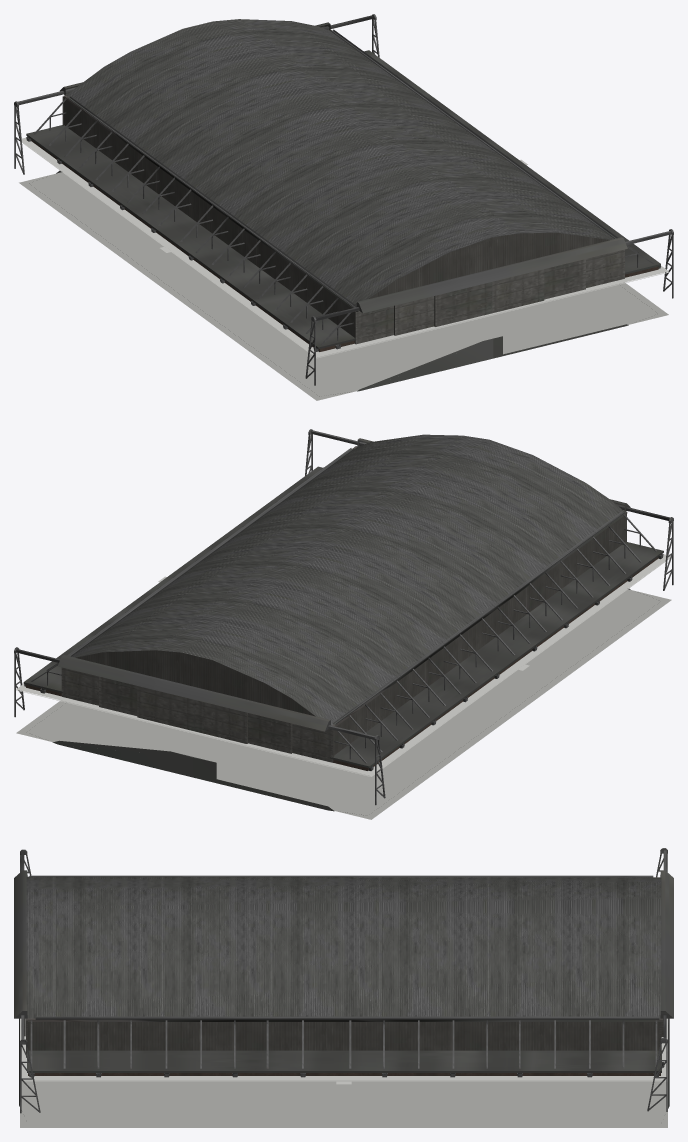
The model's file is hangar-j.access-v8.lod1.glb.
3 renders of one model, top to bottom at view 1: azimuth 30°, elevation 25°; view 2: azimuth 150°, elevation 25°; view 3: azimuth 270°, elevation 25°, orthographic. The views are drawn at different scales.
Parts seen in each view (by area): view 1: Object_2, Walkable floors and stairs (×2); view 2: Object_2, Walkable floors and stairs (×2); view 3: Object_2, Walkable floors and stairs (×2).
Part boxes in pixels (bbox=[...]): Object_2: bbox=[14, 14, 673, 396]; Walkable floors and stairs (×2): bbox=[19, 137, 668, 400]; Object_2: bbox=[14, 429, 673, 815]; Walkable floors and stairs (×2): bbox=[16, 554, 671, 819]; Object_2: bbox=[14, 848, 673, 1113]; Walkable floors and stairs (×2): bbox=[20, 1018, 667, 1127].
Bounding box in the file's own units: 61.89 × 19.3 × 89.88.
Materials: 3 (1 with a texture image).
